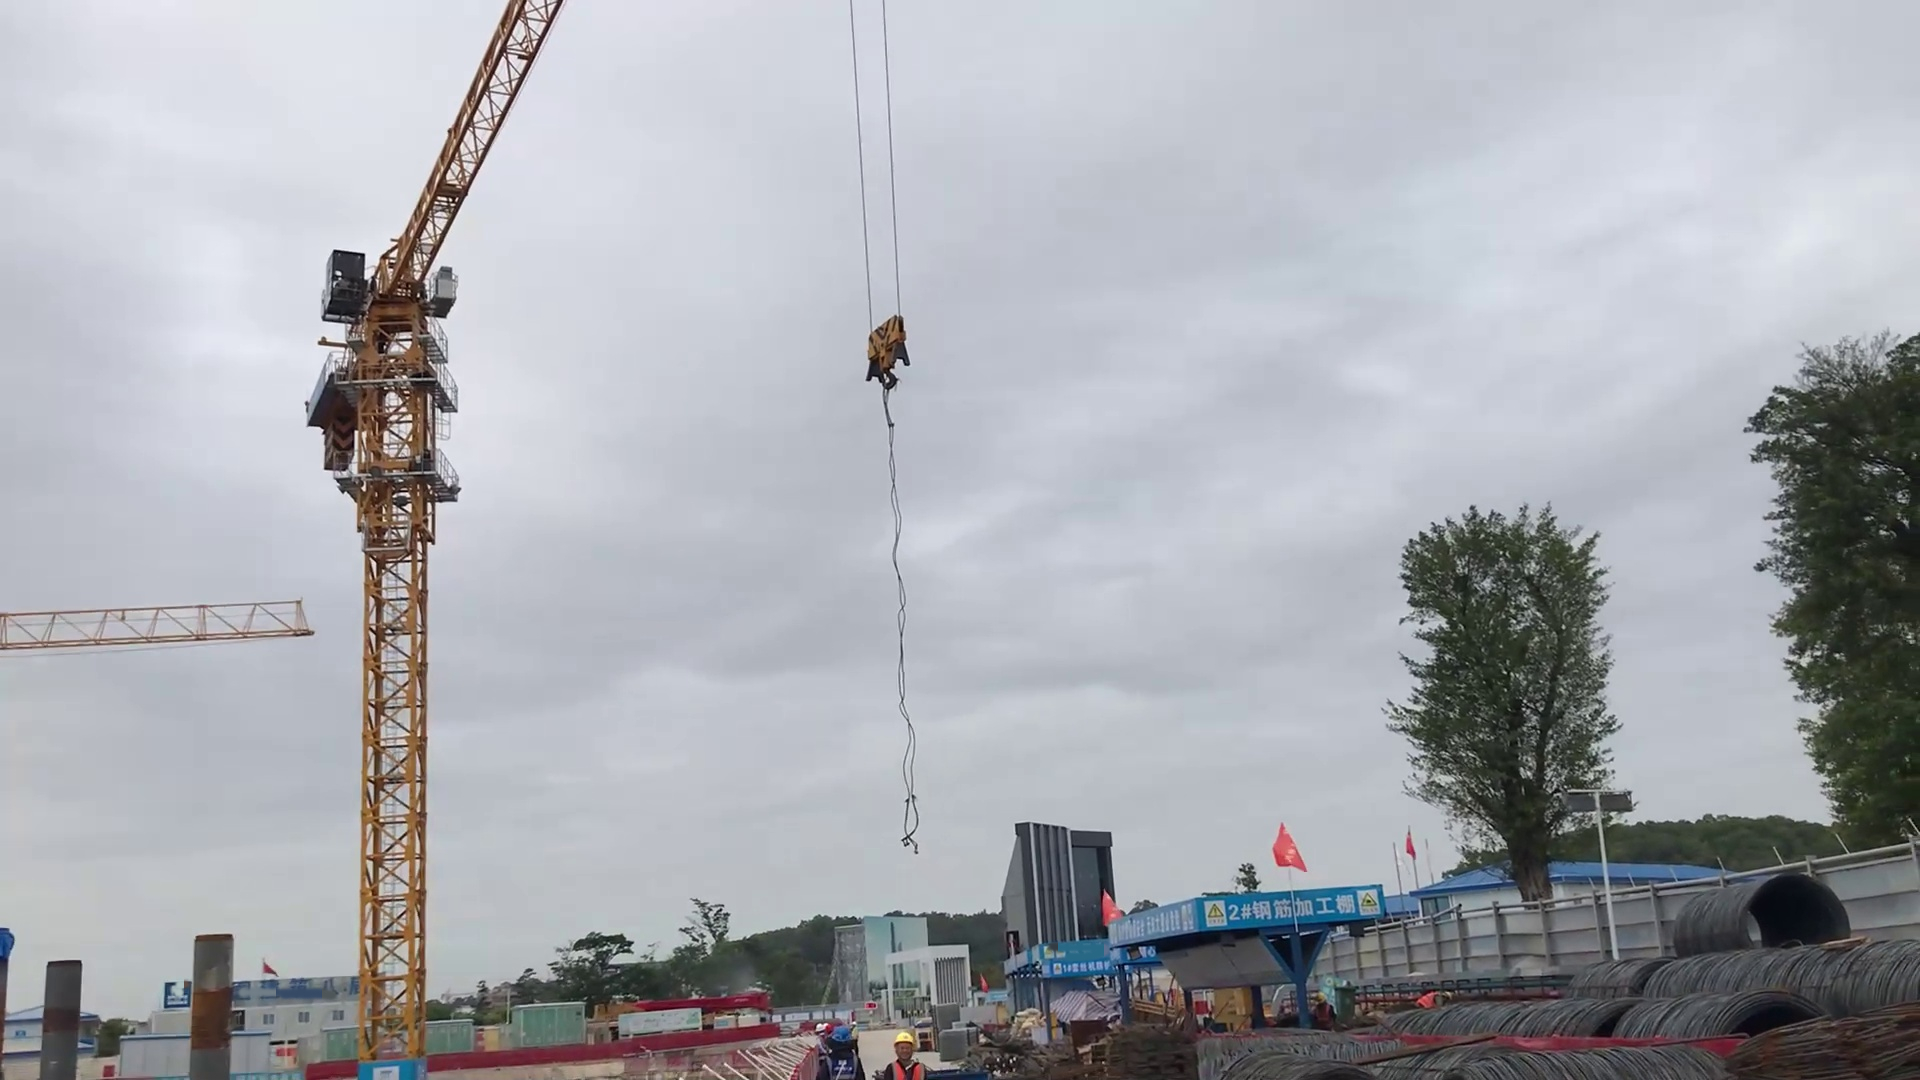helmet: (822, 1015, 870, 1054), (884, 1029, 924, 1042)
hook: (861, 314, 919, 397)
